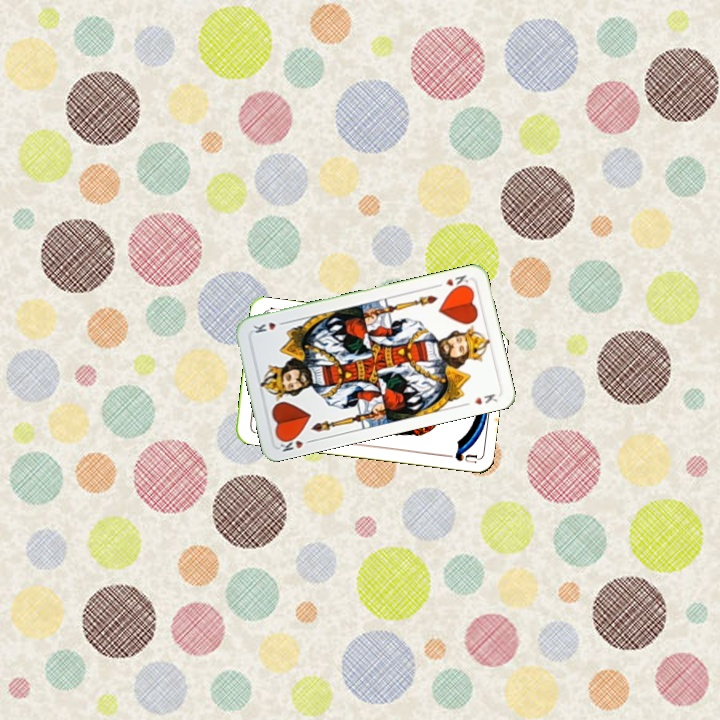HK: (276, 431, 316, 454), (432, 271, 472, 292)
